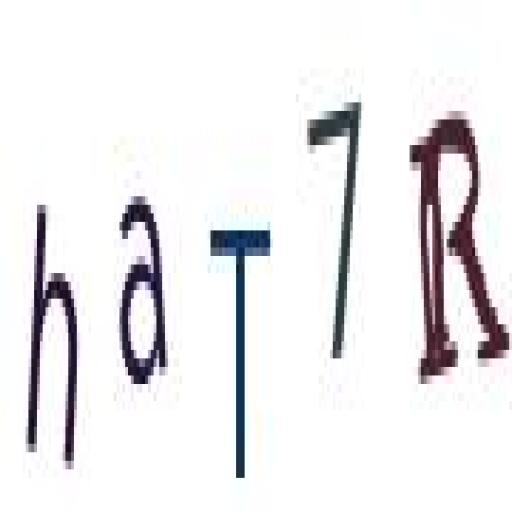A: (113, 186, 172, 396)
T: (199, 198, 280, 494)
h: (21, 182, 82, 488)
